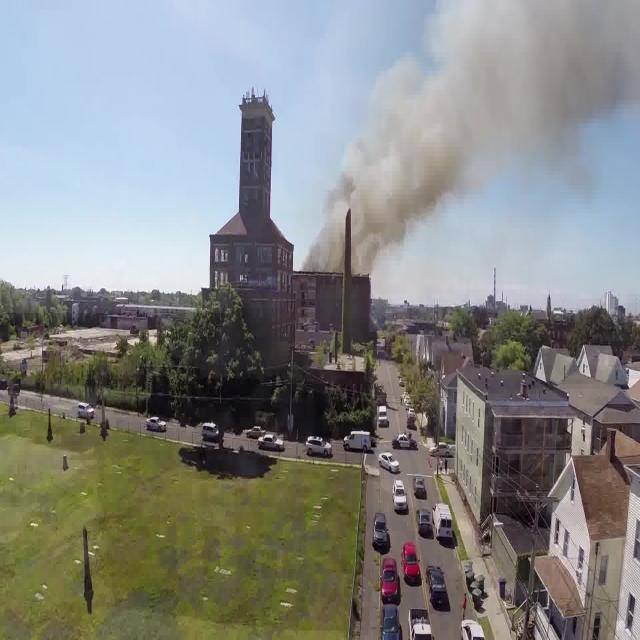Smoke: (304, 0, 639, 271)
